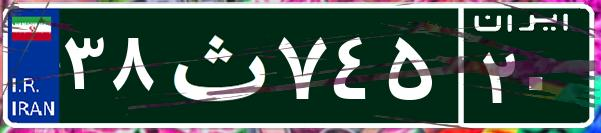0: (525, 38, 570, 115)
2: (475, 38, 525, 113)
3: (57, 26, 110, 107)
4: (330, 28, 385, 110)
5: (385, 28, 445, 110)
7: (273, 28, 330, 110)
8: (110, 28, 158, 105)
ث: (158, 15, 273, 115)
